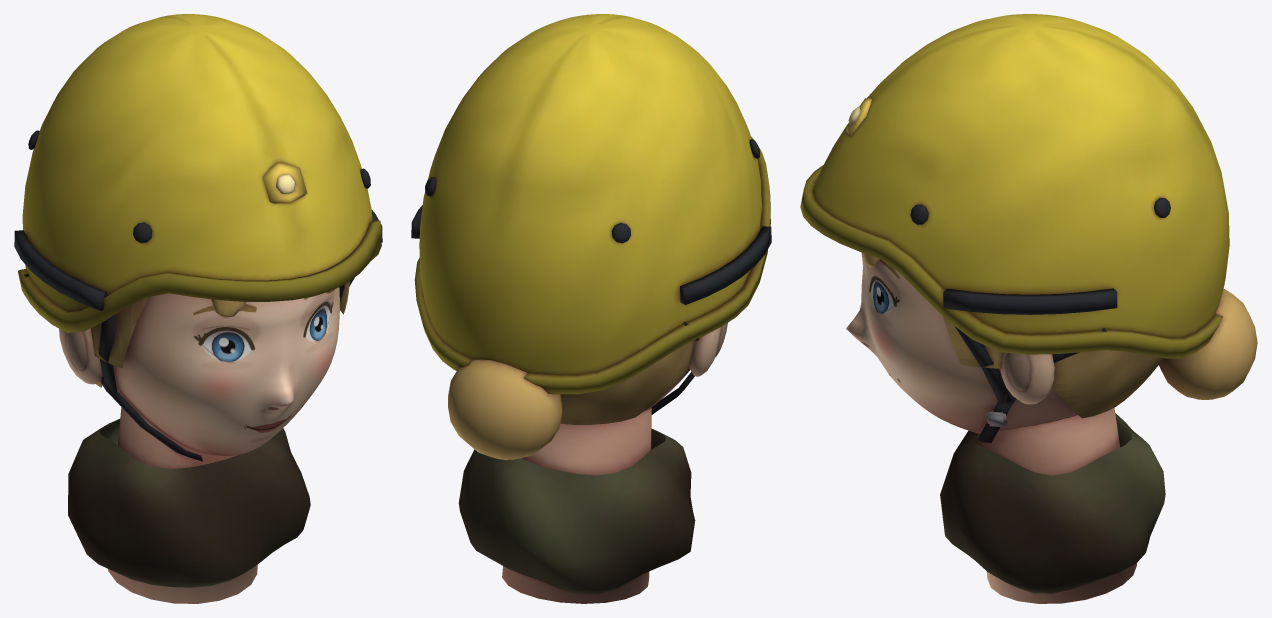
File: cabeza-mortar-f.glb
The picture shows the model from 3 angles, left to right: view 1: azimuth 30°, elevation 25°; view 2: azimuth 150°, elevation 25°; view 3: azimuth 270°, elevation 25°; orthographic projection. The views are drawn at different scales.
Visible parts, largest first — view 1: h_Head; view 2: h_Head; view 3: h_Head.
Part boxes in pixels (bbox=[...]): h_Head: bbox=[14, 14, 382, 603]; h_Head: bbox=[411, 14, 771, 603]; h_Head: bbox=[800, 14, 1257, 603].
Bounding box in the file's own units: 0.2213 × 0.3816 × 0.2861.
1 material, 1 textured.
